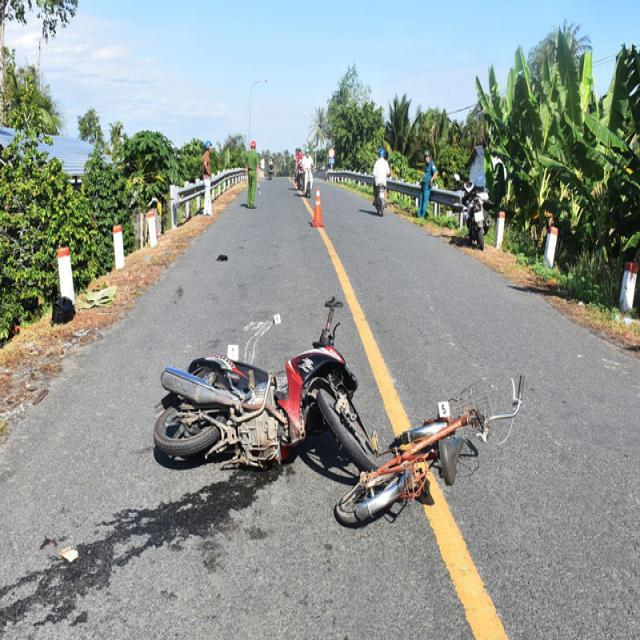multiple_accident: (152, 282, 531, 561)
